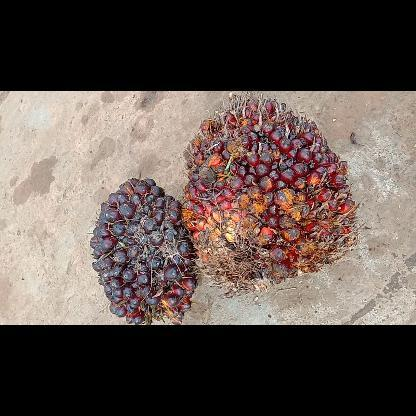TBS masak: (181, 90, 359, 292)
TBS mentah: (89, 170, 197, 324)
